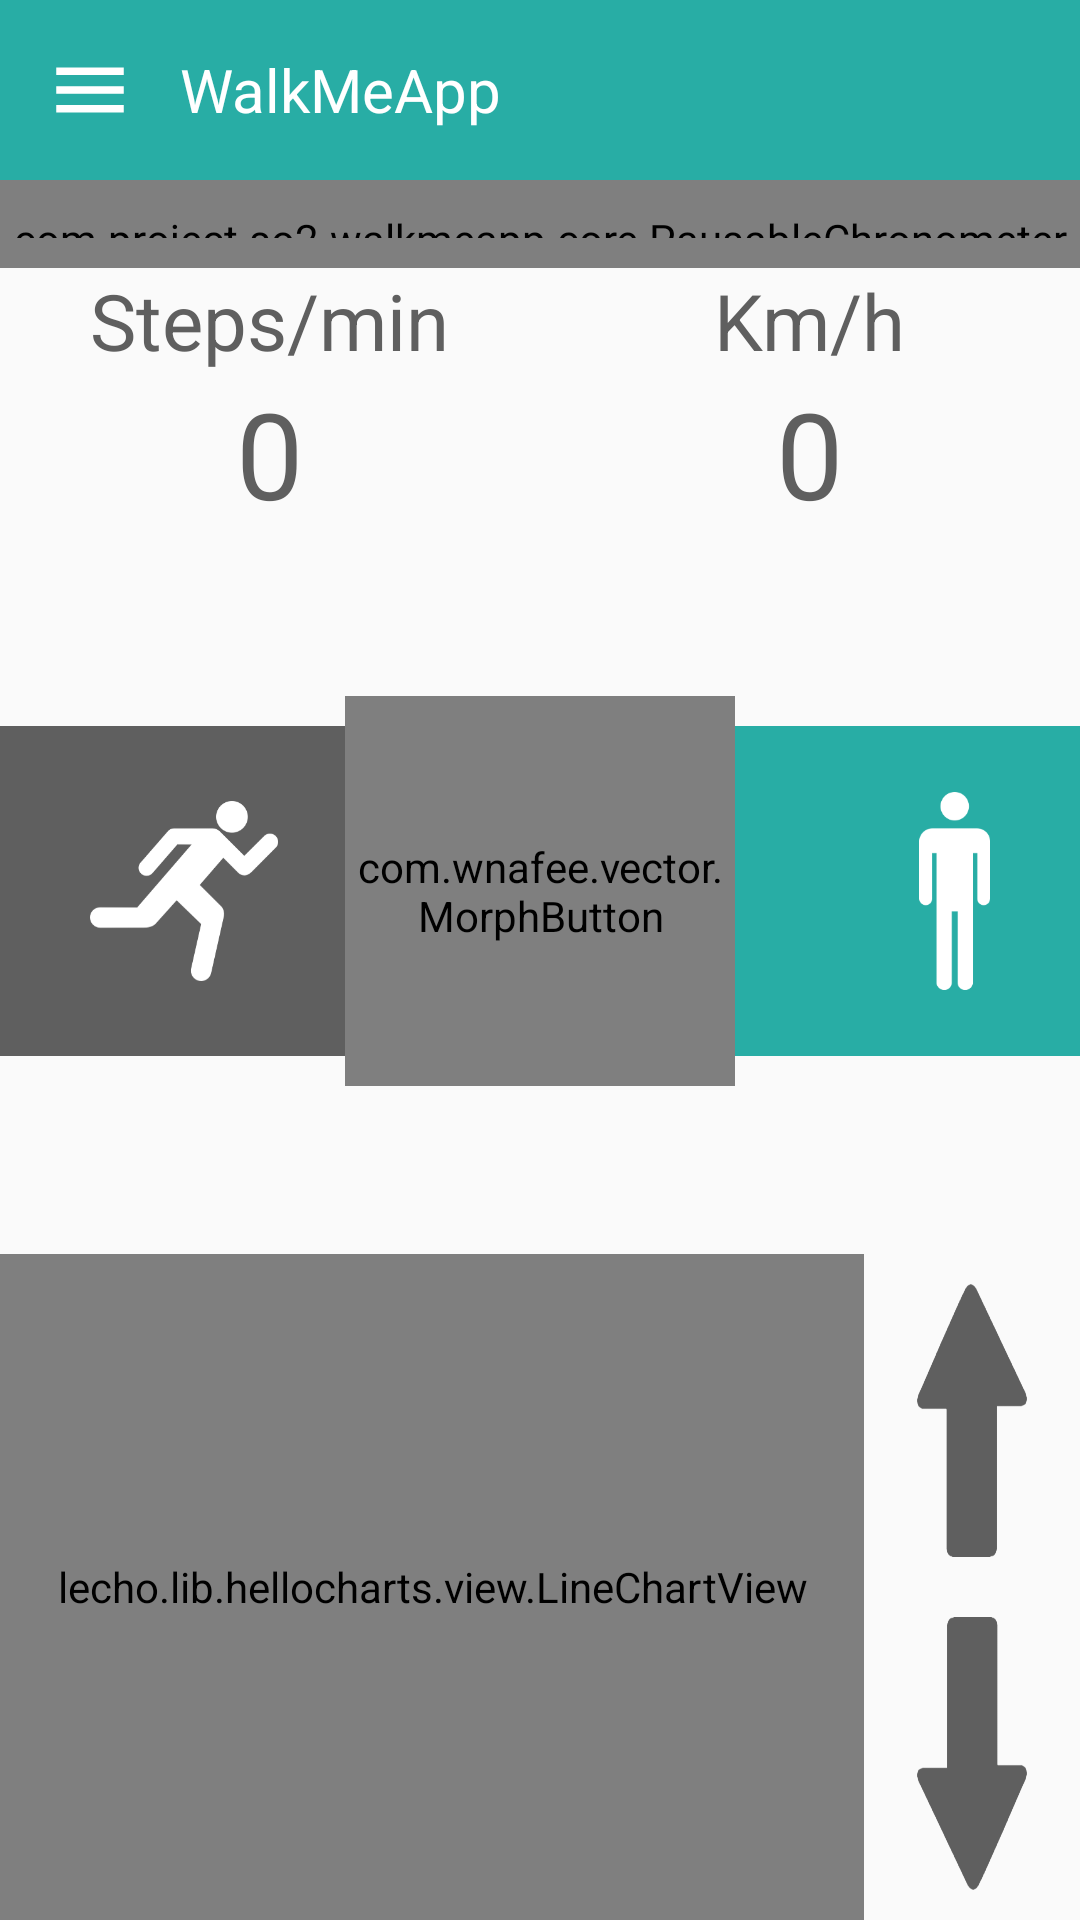

Screen size 1080×1920. Icon name, then its box in pixels as (x1, y1, x2, y2):
down: (917, 1617, 1027, 1890)
menu: (56, 67, 124, 113)
